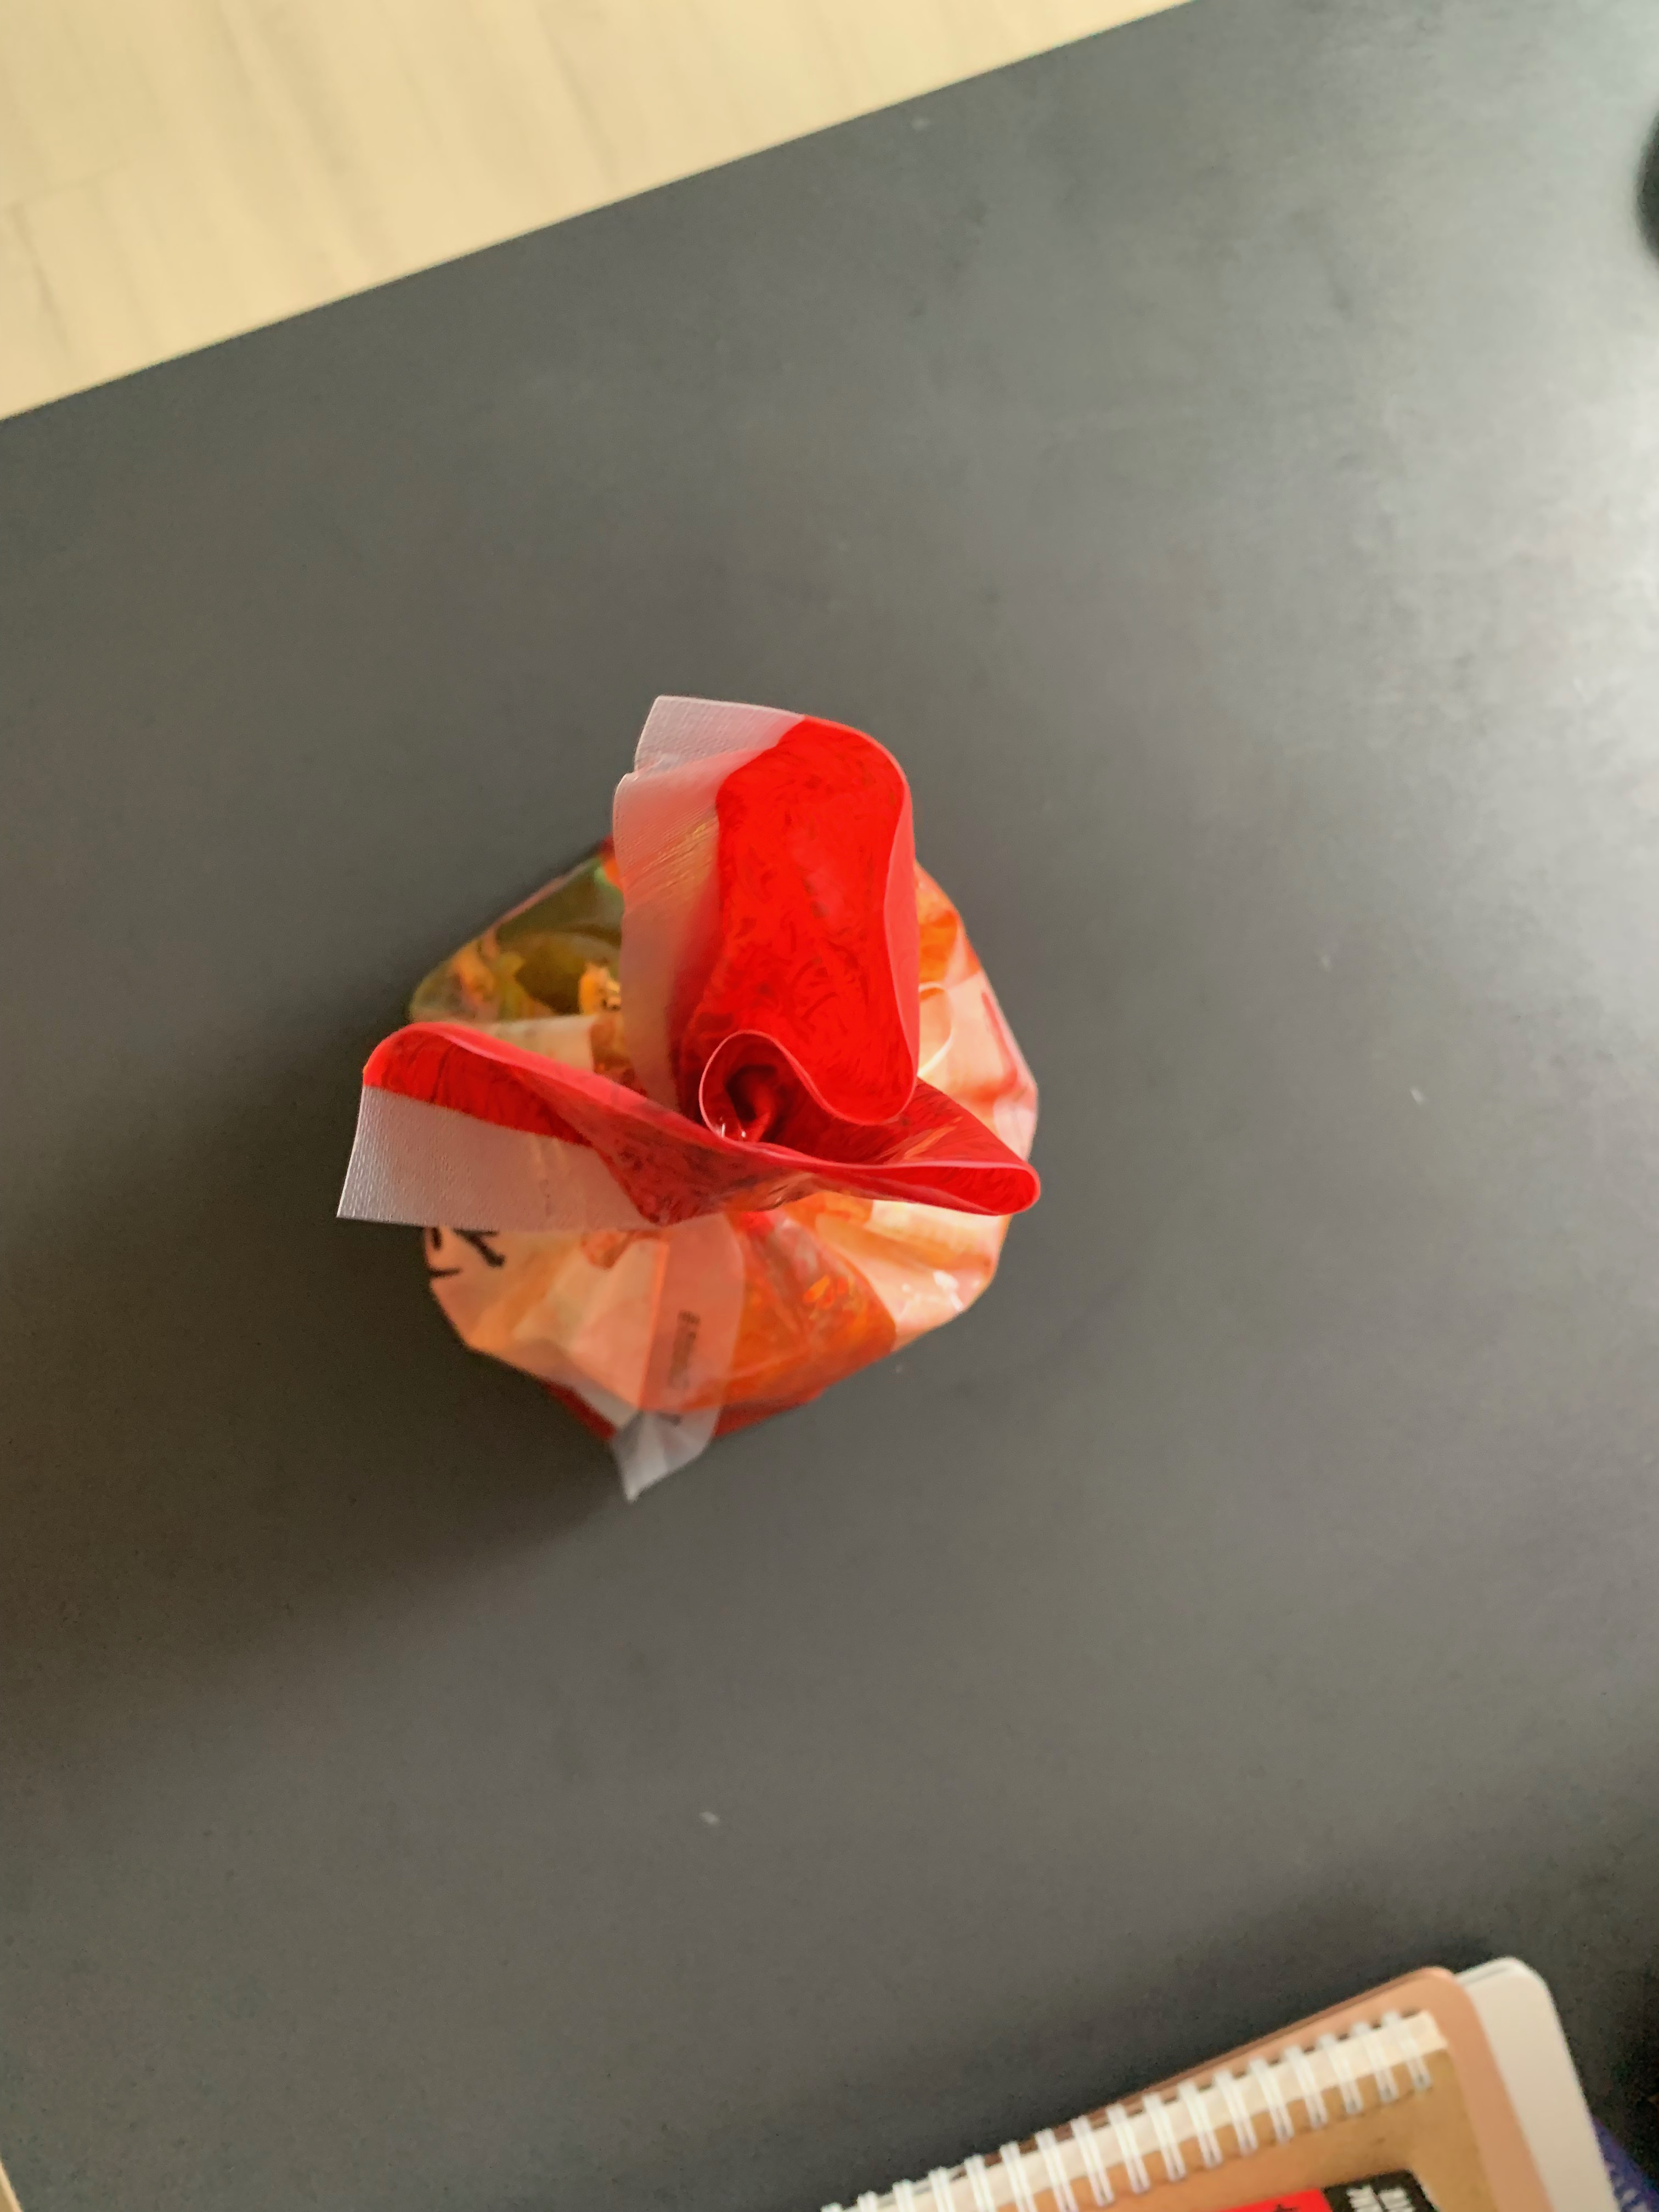kimchi: (361, 719, 1046, 1444)
